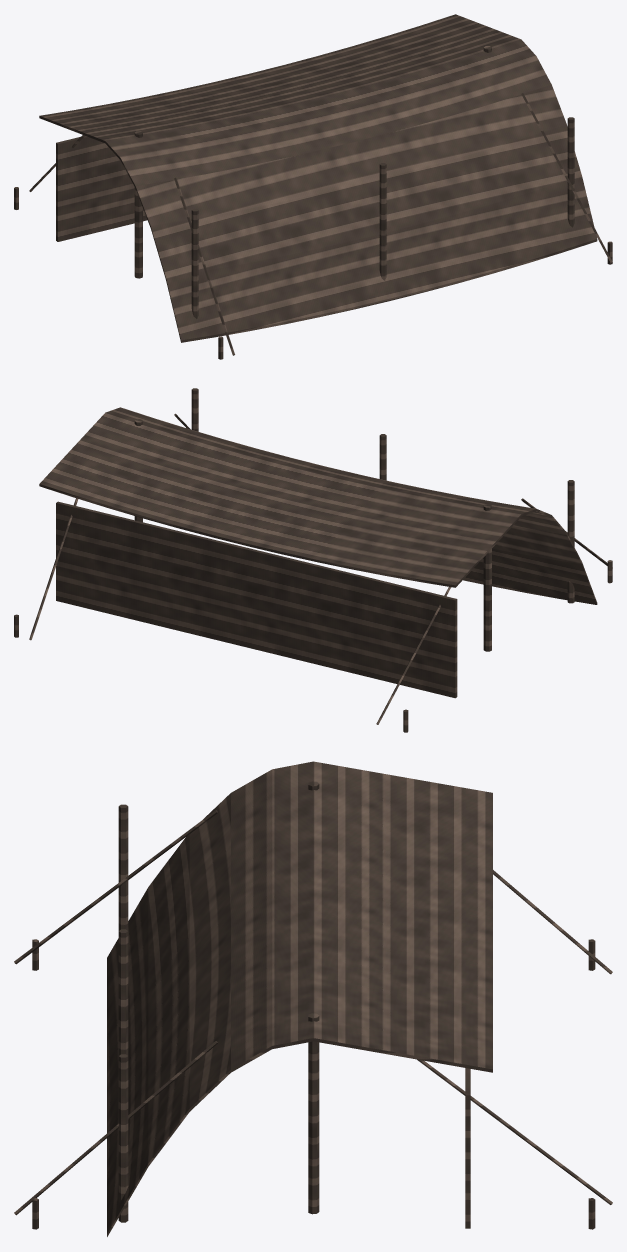
The model's file is bayt.glb.
3 renders of one model, top to bottom at view 1: azimuth 30°, elevation 25°; view 2: azimuth 150°, elevation 25°; view 3: azimuth 270°, elevation 25°, orthographic. The views are drawn at different scales.
Visible parts, largest first — view 1: bayt; view 2: bayt; view 3: bayt.
Boxes of the visible parts, x1,y1,x2,y2 form: bayt: [14, 14, 612, 359]; bayt: [14, 388, 612, 732]; bayt: [14, 761, 612, 1236].
Size of the model in its own units: 6.2 by 2.21 by 5.67.
1 material, 1 textured.
